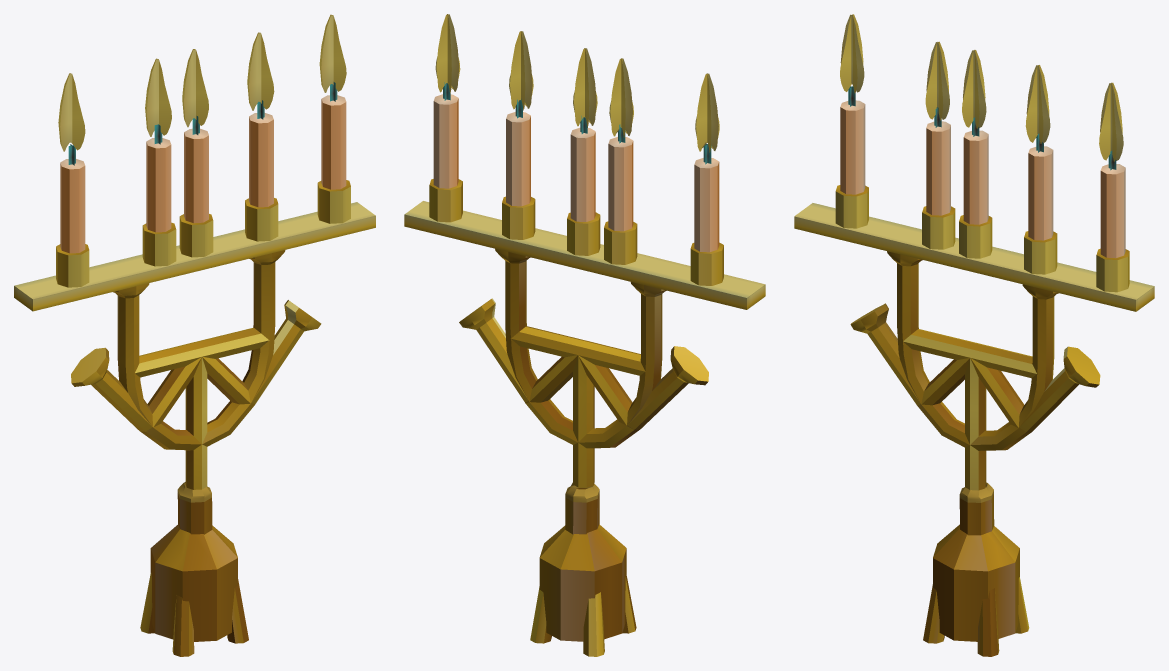
Rendered from candle_338x04.obj.
The picture shows the model from 3 angles, left to right: view 1: azimuth 30°, elevation 25°; view 2: azimuth 150°, elevation 25°; view 3: azimuth 330°, elevation 25°; orthographic projection.
Visible parts, largest first — view 1: Candle_338x4; view 2: Candle_338x4; view 3: Candle_338x4.
Part boxes in pixels (x1,y1,x2,y2): Candle_338x4: [14, 14, 375, 656]; Candle_338x4: [404, 14, 765, 656]; Candle_338x4: [794, 14, 1154, 656].
Size of the model in its own units: 1.3 by 2.13 by 0.2955.
